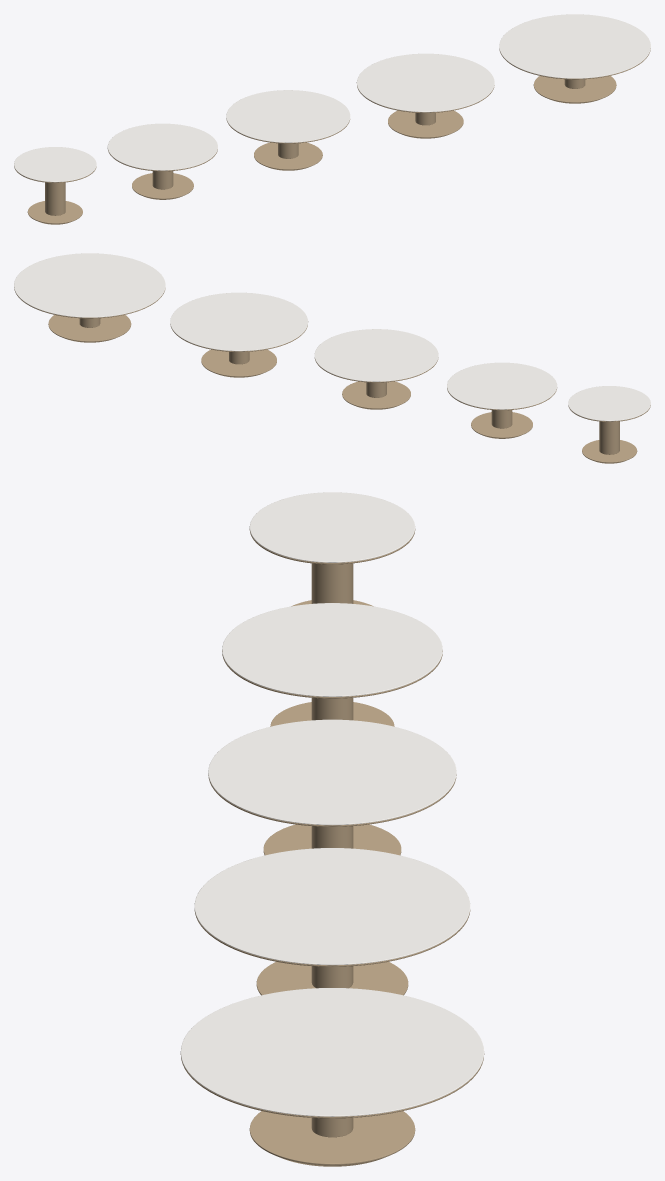
The model's file is familia_proposta.glb.
The picture shows the model from 3 angles, top to bottom: view 1: azimuth 30°, elevation 25°; view 2: azimuth 150°, elevation 25°; view 3: azimuth 270°, elevation 25°; orthographic projection. The views are drawn at different scales.
Parts seen in each view (by area): view 1: Top Orbit Coffee Table 044, Top Orbit Coffee Table 042, Top Orbit Coffee Table 040, Top Orbit Coffee Table 038, Top Orbit Coffee Table 036, Base Orbit Coffee Table 044, Base Orbit Coffee Table 042, Base Orbit Coffee Table 040, Base Orbit Coffee Table 038, Base Orbit Coffee Table 036, Base Element Orbit Coffee Table 039, Base Element Orbit Coffee Table 041 (+1 smaller); view 2: Top Orbit Coffee Table 044, Top Orbit Coffee Table 042, Top Orbit Coffee Table 040, Top Orbit Coffee Table 038, Top Orbit Coffee Table 036, Base Orbit Coffee Table 044, Base Orbit Coffee Table 042, Base Orbit Coffee Table 040, Base Orbit Coffee Table 038, Base Orbit Coffee Table 036, Base Element Orbit Coffee Table 039, Base Element Orbit Coffee Table 041 (+1 smaller); view 3: Top Orbit Coffee Table 044, Top Orbit Coffee Table 042, Top Orbit Coffee Table 040, Top Orbit Coffee Table 038, Top Orbit Coffee Table 036, Base Orbit Coffee Table 044, Base Orbit Coffee Table 042, Base Orbit Coffee Table 040, Base Element Orbit Coffee Table 039, Base Orbit Coffee Table 038, Base Element Orbit Coffee Table 043, Base Element Orbit Coffee Table 041.
Part boxes in pixels (<box>): Top Orbit Coffee Table 044: <box>499,14,650,78</box>; Top Orbit Coffee Table 042: <box>356,53,494,112</box>; Top Orbit Coffee Table 040: <box>226,90,350,142</box>; Top Orbit Coffee Table 038: <box>107,123,217,170</box>; Top Orbit Coffee Table 036: <box>14,147,96,182</box>; Base Orbit Coffee Table 044: <box>533,76,616,103</box>; Base Orbit Coffee Table 042: <box>388,110,463,138</box>; Base Orbit Coffee Table 040: <box>254,142,322,170</box>; Base Orbit Coffee Table 038: <box>132,173,193,199</box>; Base Orbit Coffee Table 036: <box>27,201,82,224</box>; Base Element Orbit Coffee Table 039: <box>45,182,65,215</box>; Base Element Orbit Coffee Table 041: <box>152,171,173,189</box>; Top Orbit Coffee Table 044: <box>14,253,165,317</box>; Top Orbit Coffee Table 042: <box>170,292,308,351</box>; Top Orbit Coffee Table 040: <box>314,329,438,381</box>; Top Orbit Coffee Table 038: <box>447,362,557,409</box>; Top Orbit Coffee Table 036: <box>568,386,650,421</box>; Base Orbit Coffee Table 044: <box>48,315,131,342</box>; Base Orbit Coffee Table 042: <box>201,349,276,377</box>; Base Orbit Coffee Table 040: <box>342,381,410,409</box>; Base Orbit Coffee Table 038: <box>471,412,532,438</box>; Base Orbit Coffee Table 036: <box>582,440,637,463</box>; Base Element Orbit Coffee Table 039: <box>599,421,619,454</box>; Base Element Orbit Coffee Table 041: <box>491,410,512,428</box>; Top Orbit Coffee Table 044: <box>180,988,484,1116</box>; Top Orbit Coffee Table 042: <box>194,848,470,965</box>; Top Orbit Coffee Table 040: <box>208,719,456,825</box>; Top Orbit Coffee Table 038: <box>222,603,442,696</box>; Top Orbit Coffee Table 036: <box>249,492,415,562</box>; Base Orbit Coffee Table 044: <box>249,1111,415,1166</box>; Base Orbit Coffee Table 042: <box>256,961,408,995</box>; Base Orbit Coffee Table 040: <box>263,824,401,855</box>; Base Element Orbit Coffee Table 039: <box>311,563,353,603</box>; Base Orbit Coffee Table 038: <box>270,702,394,726</box>; Base Element Orbit Coffee Table 043: <box>311,826,353,848</box>; Base Element Orbit Coffee Table 041: <box>311,698,353,720</box>.
Bounding box in the file's own units: 5.2 × 0.404 × 1.1.
